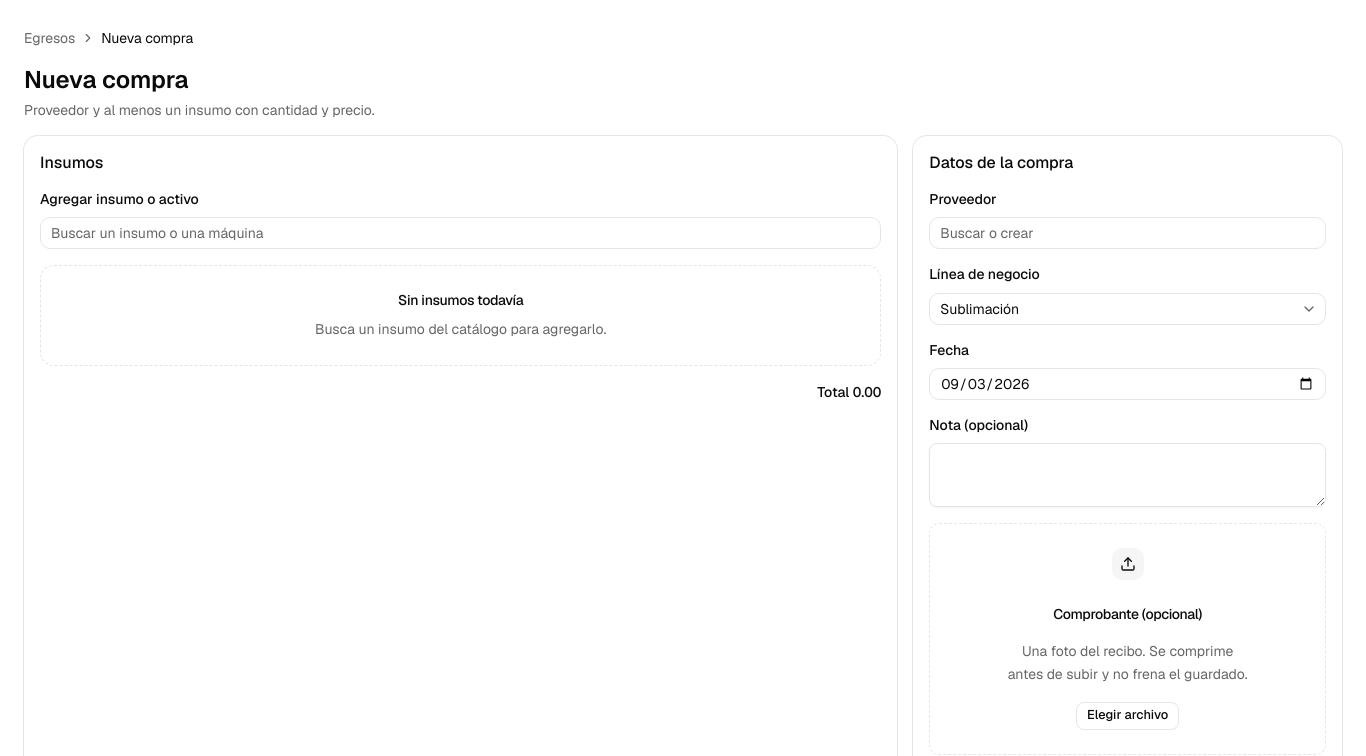
Scenario: PurchaseForm (V8) › sin líneas se impide señalando la tabla de insumos
The image size is (1366, 756).
Type "Distri" into the field labelled "Proveedor" at (1128, 233), box [929, 217, 1326, 249]
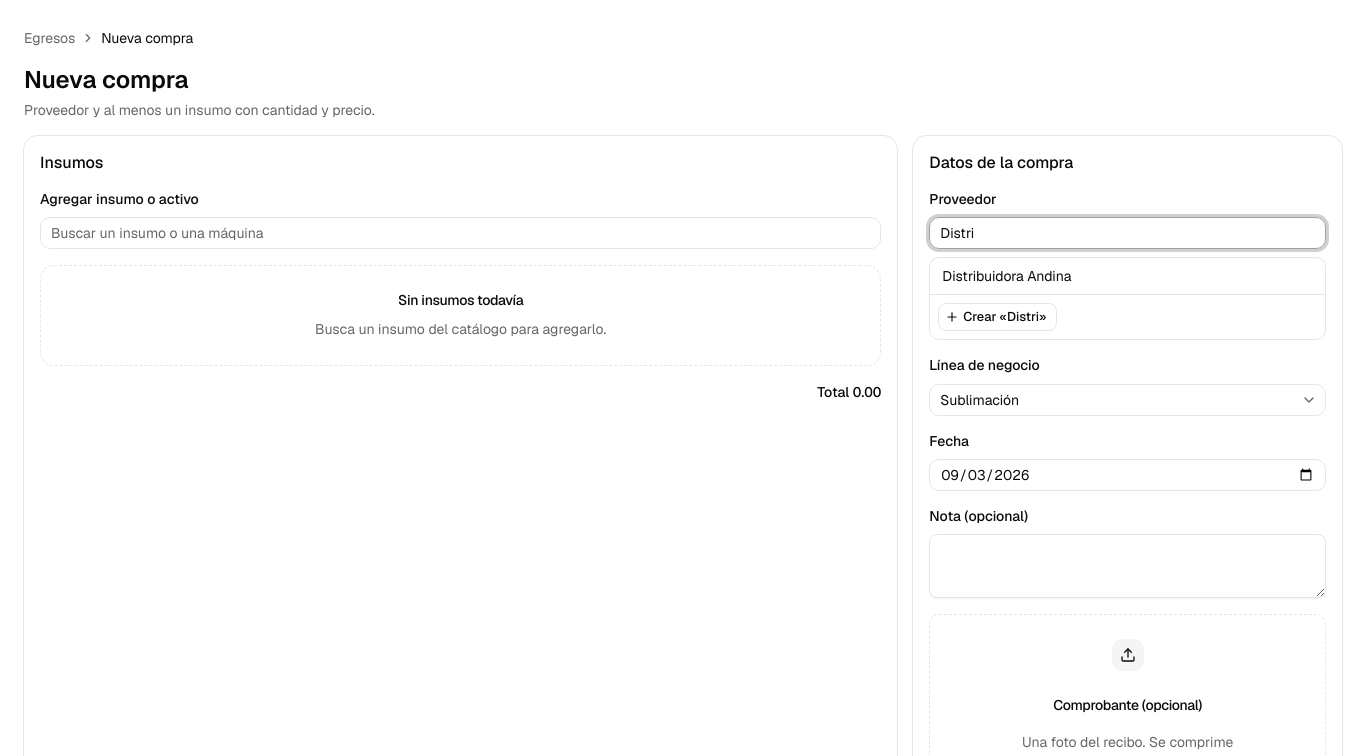
Click the button "Distribuidora Andina" at (1007, 276), box [930, 258, 1325, 294]
(page scrolled)
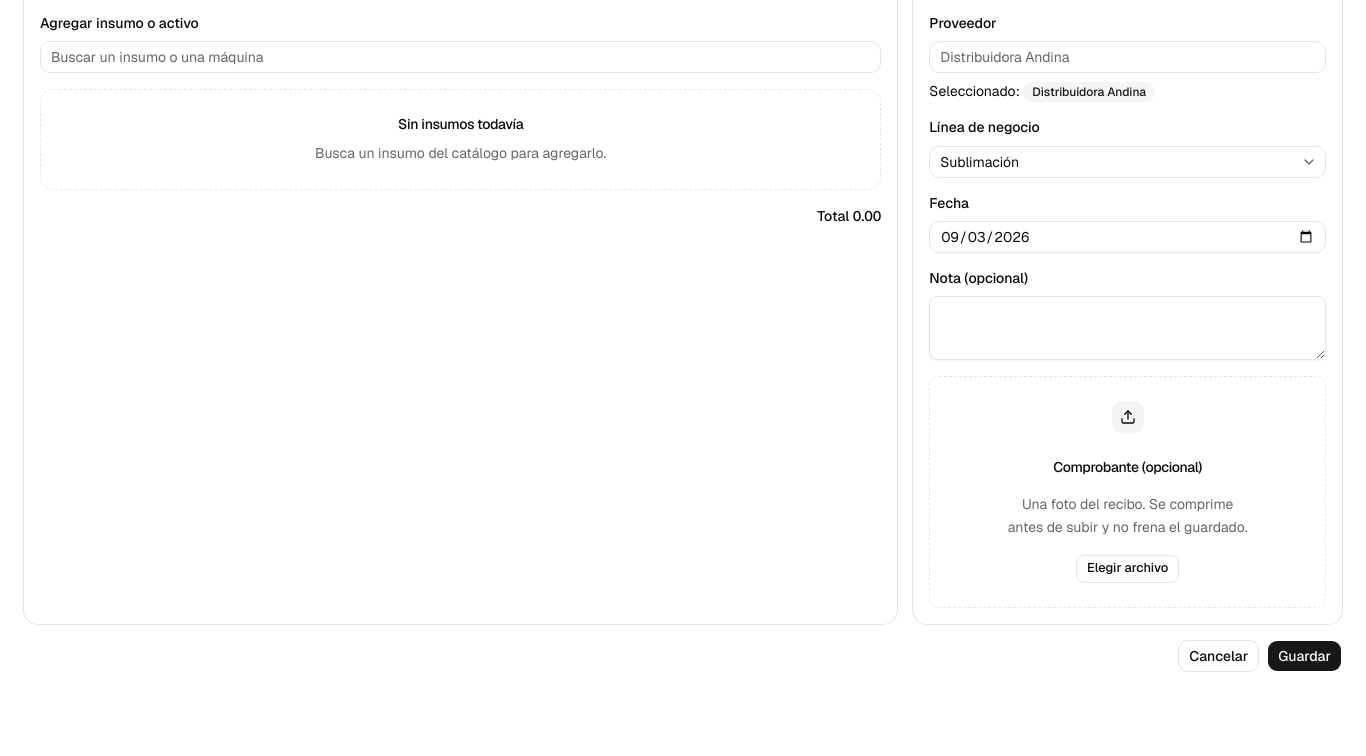
Click the button with test id "save-purchase" at (1305, 656), box [1267, 640, 1342, 672]
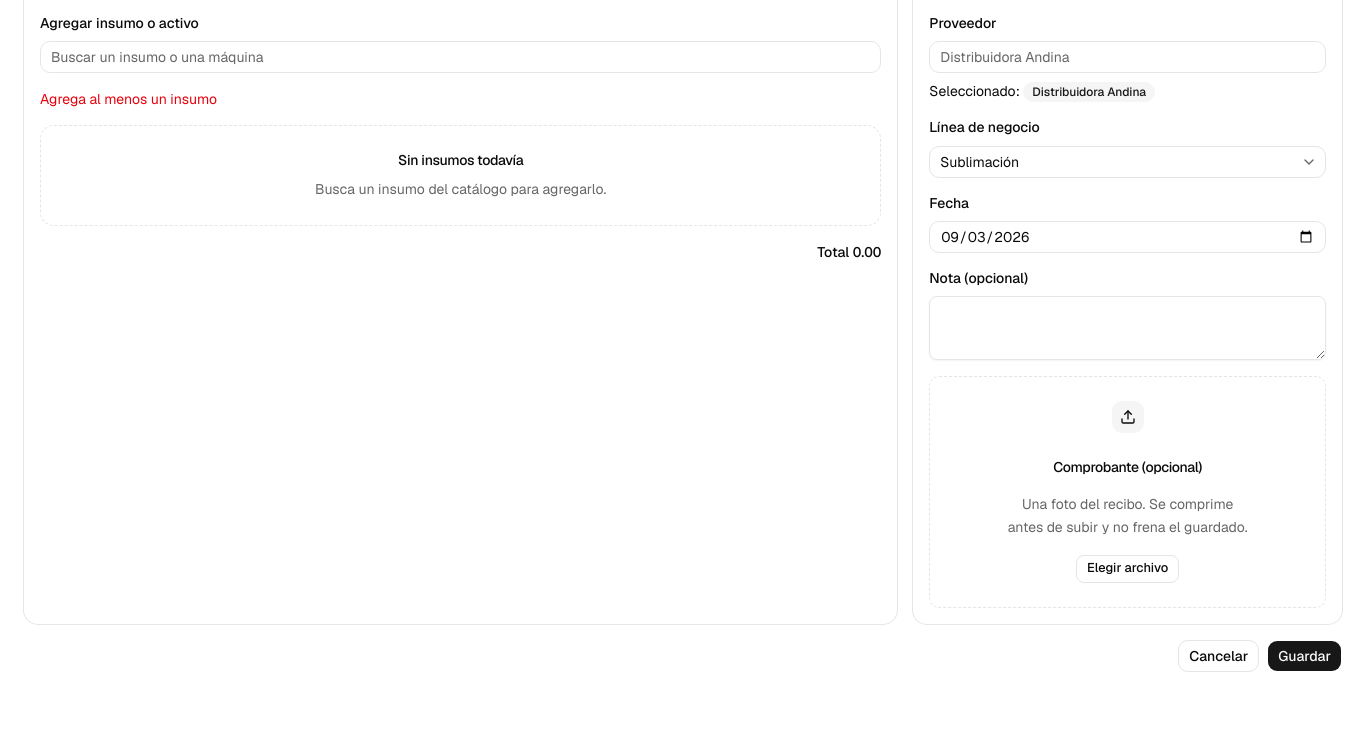
Result: the message with test id "lines-error" reads "Agrega al menos un insumo" at [40, 90, 217, 108]
